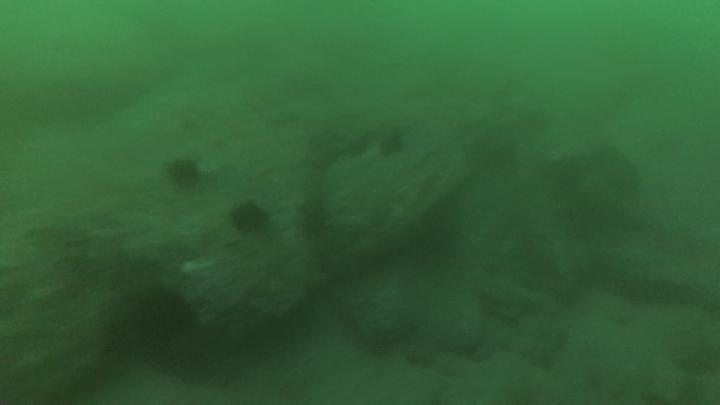echinus: (132, 296, 191, 345), (229, 204, 270, 233), (166, 163, 198, 188), (379, 138, 402, 157)
